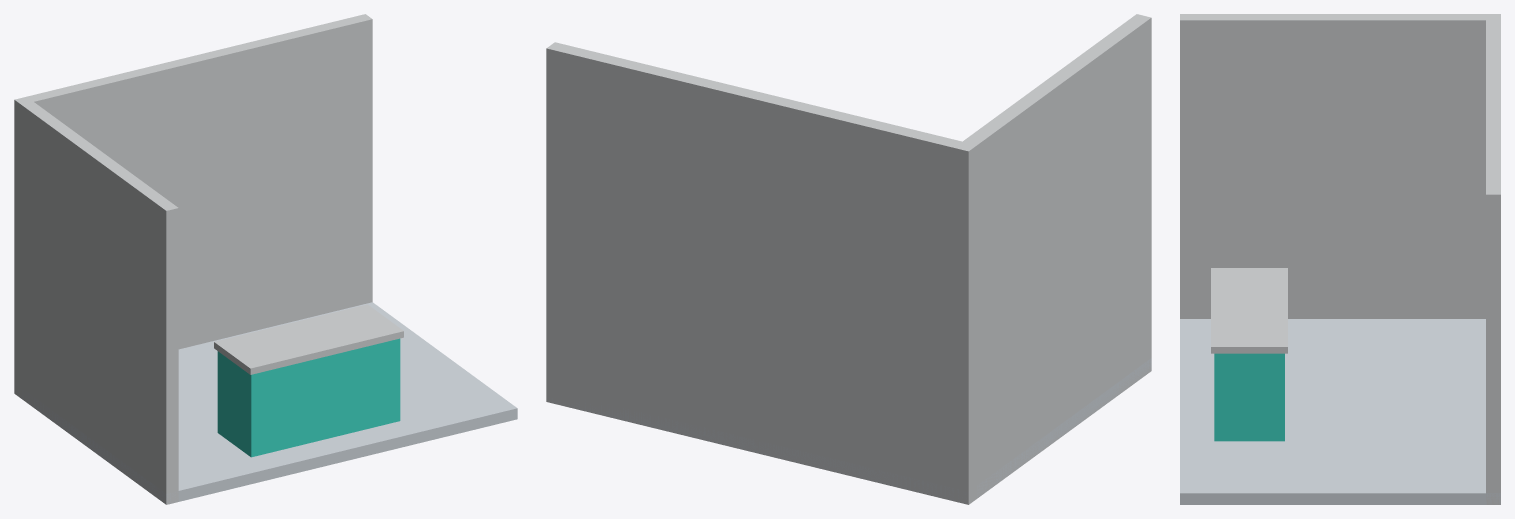
3 renders of one model, left to right at view 1: azimuth 30°, elevation 25°; view 2: azimuth 150°, elevation 25°; view 3: azimuth 270°, elevation 25°, orthographic. The views are drawn at different scales.
Parts seen in each view (by area): view 1: Exhibition Booth Concept; view 2: Exhibition Booth Concept; view 3: Exhibition Booth Concept.
Boxes of the visible parts, bbox=[...] form: Exhibition Booth Concept: bbox=[14, 14, 517, 504]; Exhibition Booth Concept: bbox=[546, 14, 1151, 504]; Exhibition Booth Concept: bbox=[1180, 14, 1500, 504].
Bounding box in the file's own units: 4 × 3.2 × 3.
